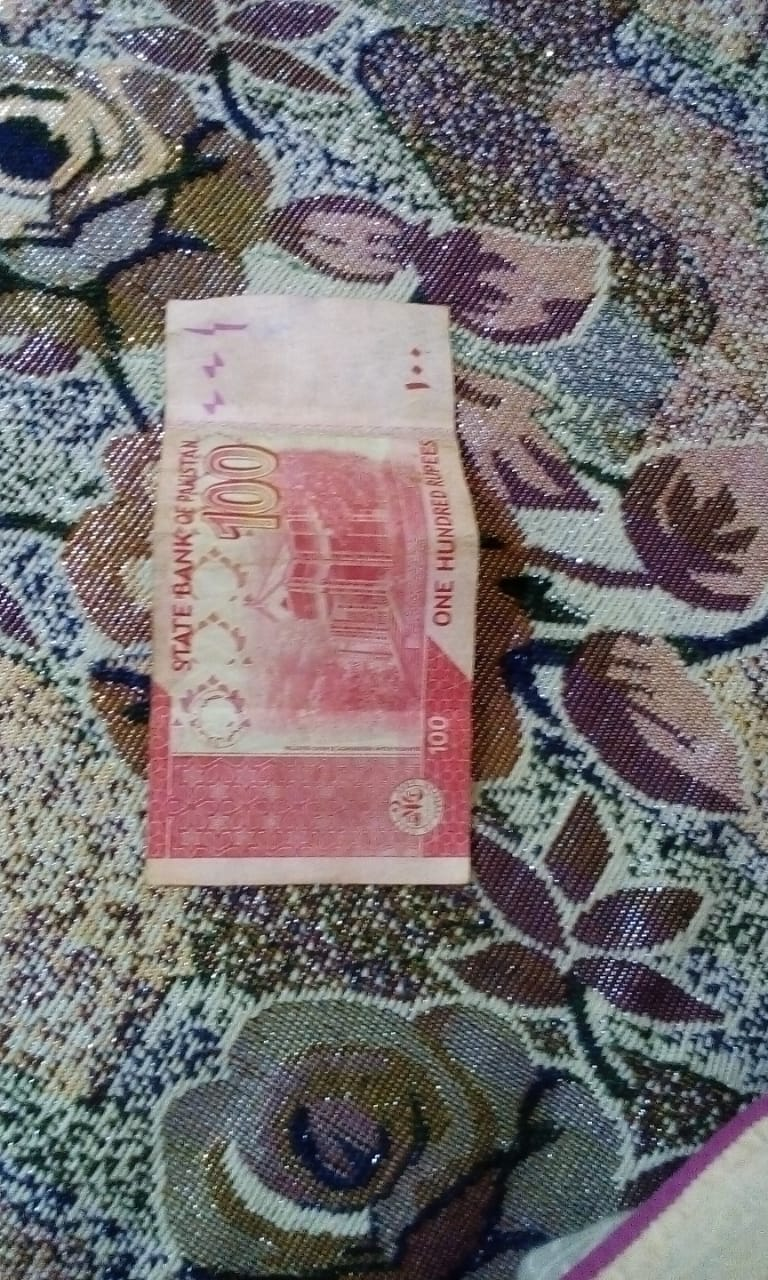100 rupee: (84, 253, 531, 931)
